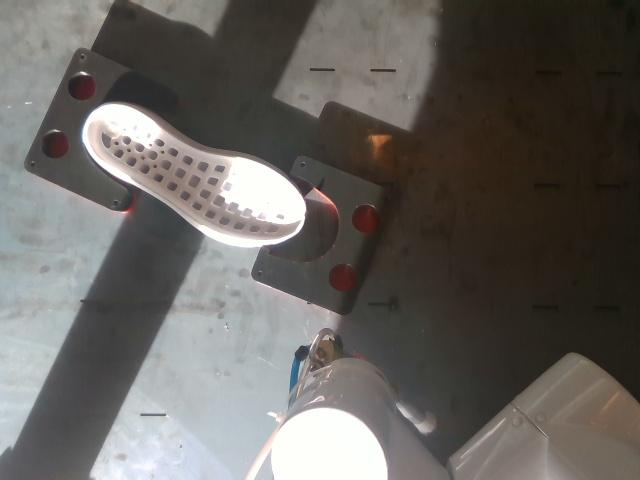shoes: (87, 104, 304, 240)
